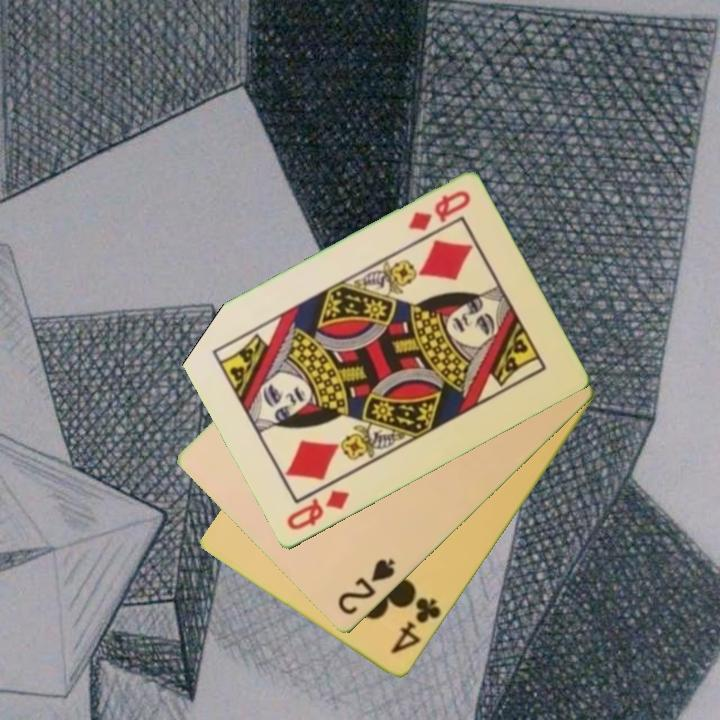2s: (334, 555, 398, 619)
4c: (387, 594, 445, 658)
Qd: (404, 187, 474, 235), (282, 487, 352, 534)
